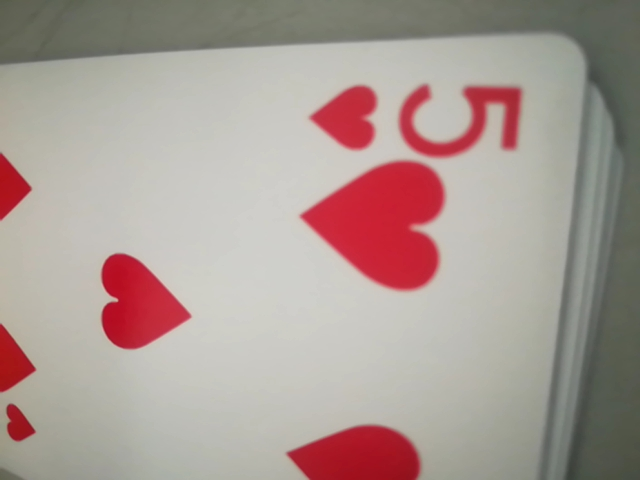hx 5: (304, 65, 525, 164)
